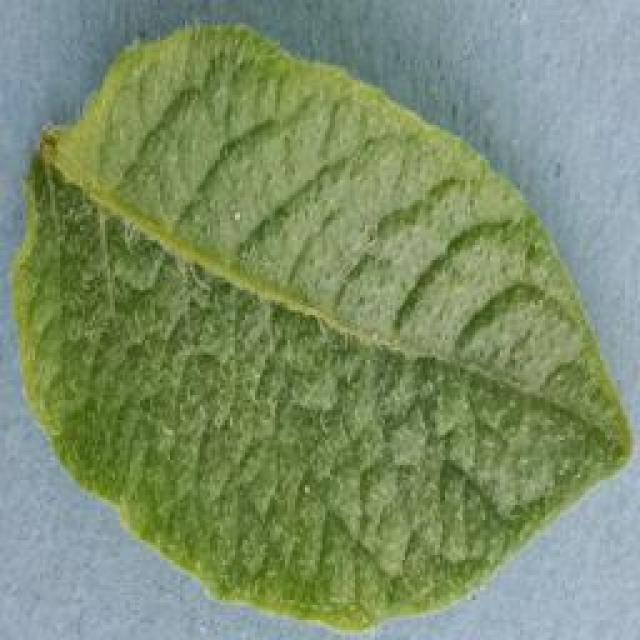Potato_Healthy: (7, 3, 636, 633)
